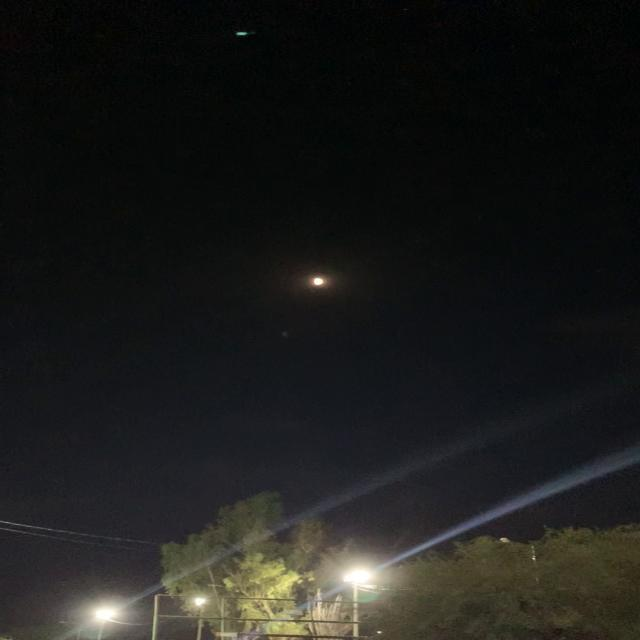moon: (298, 266, 345, 296)
